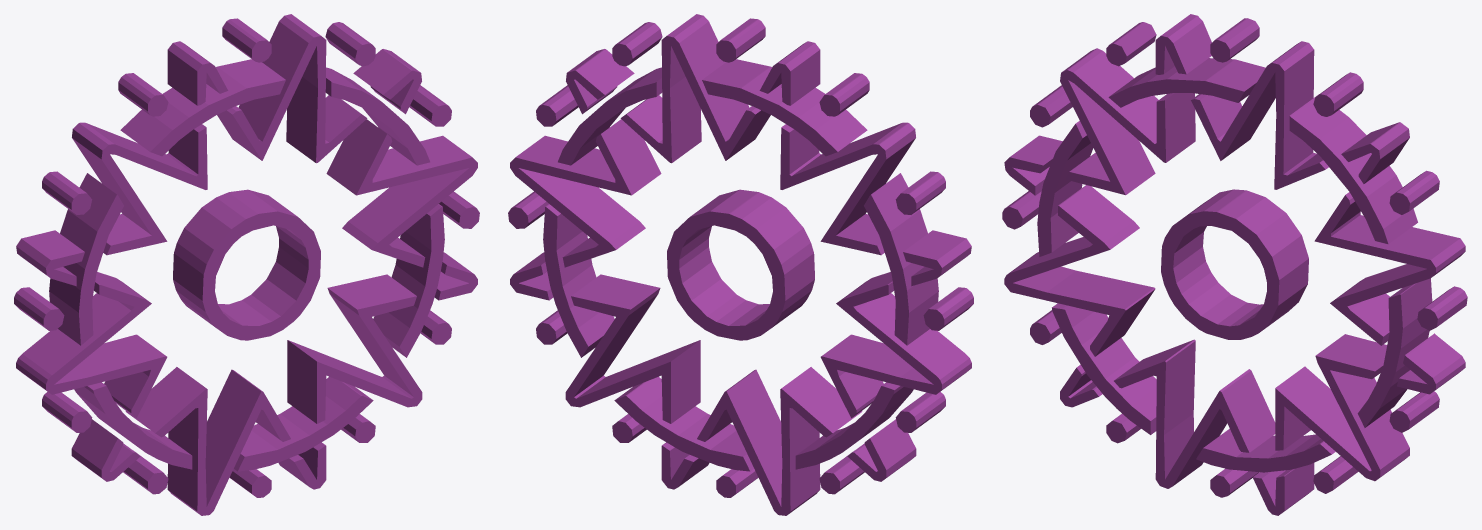
File: wick-radical-self-expression.glb
3 renders of one model, left to right at view 1: azimuth 30°, elevation 25°; view 2: azimuth 150°, elevation 25°; view 3: azimuth 330°, elevation 25°, orthographic.
Size of the model in its own units: 0.1074 by 0.1087 by 0.0127.
